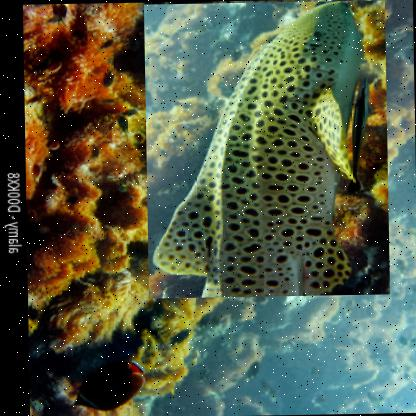zebra_shark: (142, 0, 390, 298)
